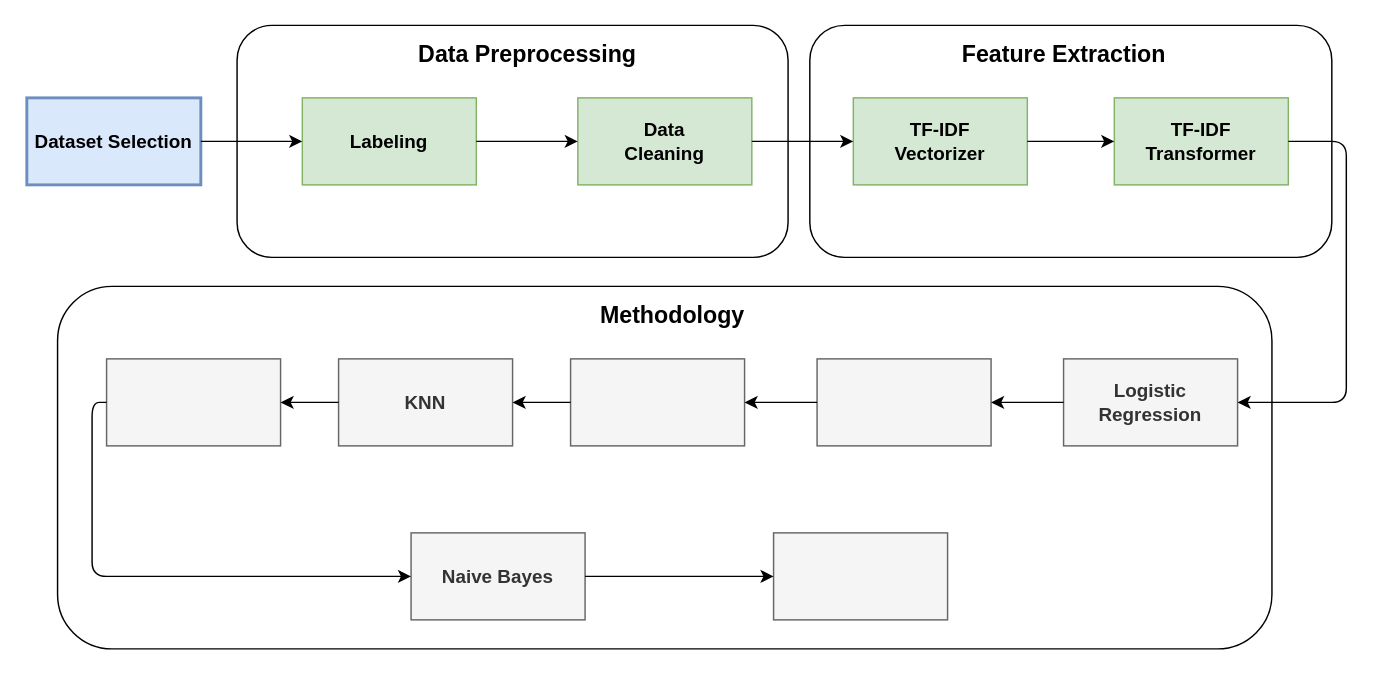
Image size: 1383x674. Some labels were removed from this diagram. Here are the shapes that lost their labels. From the top down, the box of each, then its label:
(105, 357, 281, 446): Support Vector Machine
(569, 357, 745, 446): Decision Tree
(816, 357, 991, 446): Random Forest
(772, 531, 948, 620): Ada Boost Classifier
